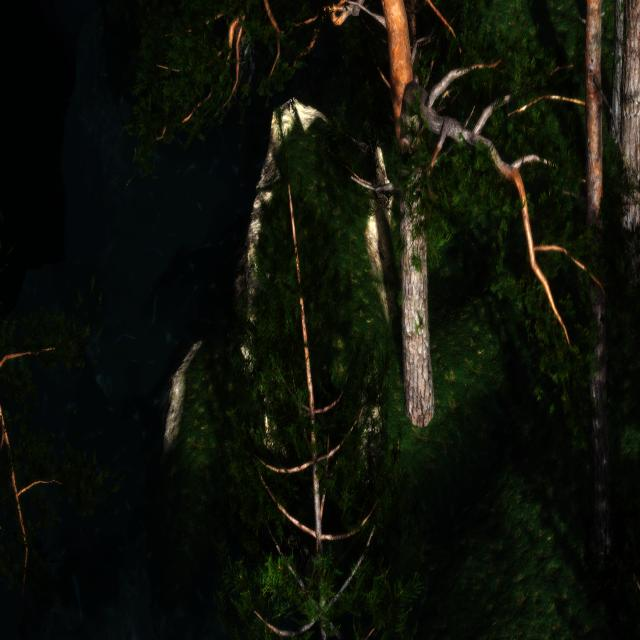Human: (220, 15, 264, 115)
